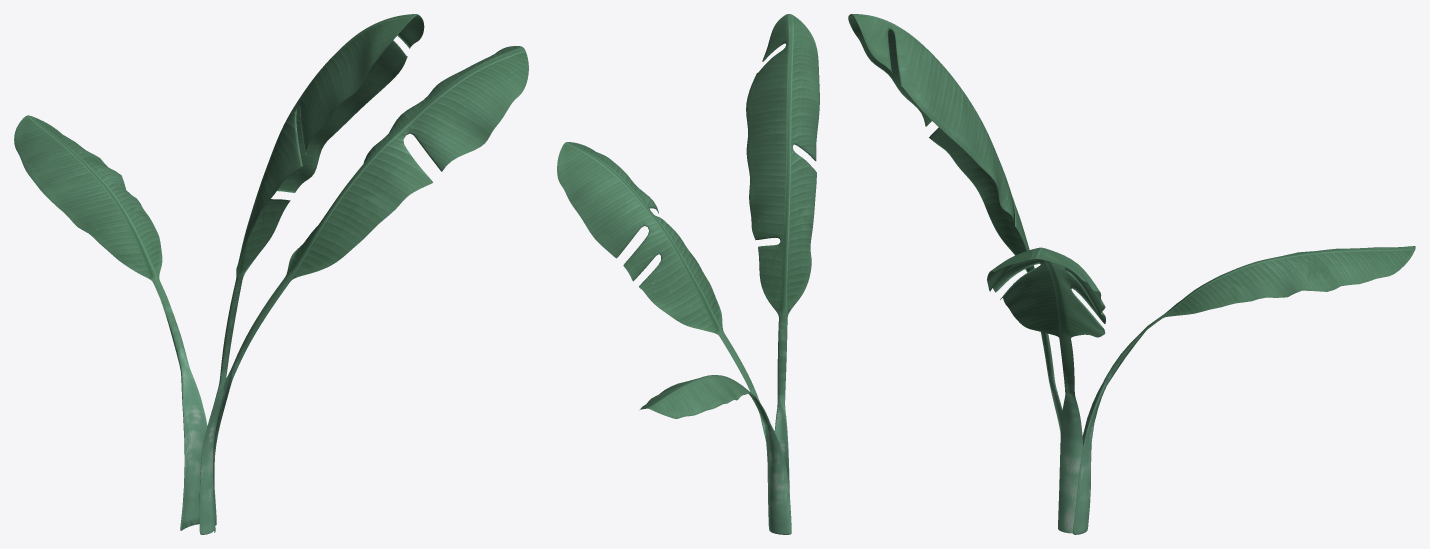
Rendered from palm.fbx.
The picture shows the model from 3 angles, left to right: view 1: azimuth 30°, elevation 25°; view 2: azimuth 150°, elevation 25°; view 3: azimuth 270°, elevation 25°; orthographic projection. The views are drawn at different scales.
Parts seen in each view (by area): view 1: Palm_Plant_Leaves; view 2: Palm_Plant_Leaves; view 3: Palm_Plant_Leaves.
Part boxes in pixels (<box>): Palm_Plant_Leaves: <box>14,14,528,534</box>; Palm_Plant_Leaves: <box>557,14,819,534</box>; Palm_Plant_Leaves: <box>848,14,1415,534</box>.
Bounding box in the file's own units: 115 × 183 × 167.
Materials: 1 (1 with a texture image).
